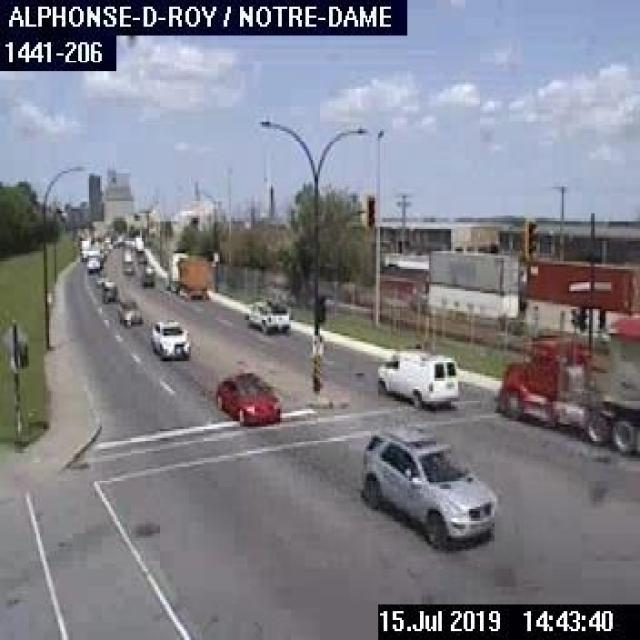vehicle: (496, 314, 638, 454), (360, 422, 496, 542), (375, 346, 458, 404), (213, 369, 280, 422), (165, 249, 208, 298), (147, 316, 189, 358), (244, 296, 291, 331), (98, 276, 120, 304), (116, 301, 140, 325), (85, 254, 100, 274), (139, 263, 153, 282)
